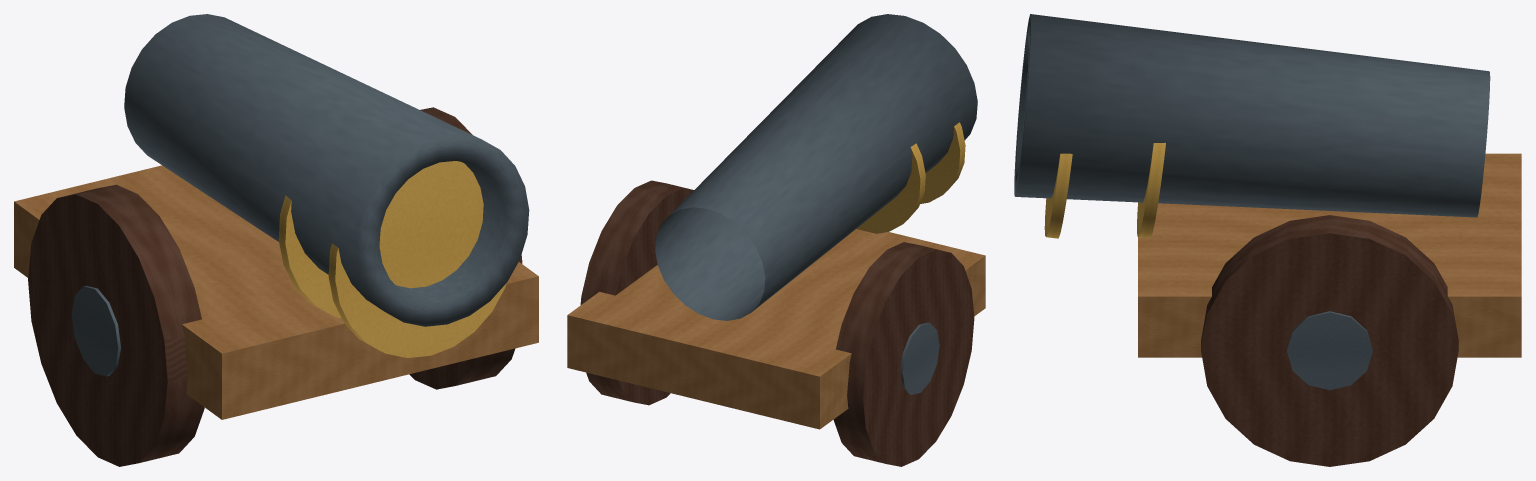
File: cannon.glb
The picture shows the model from 3 angles, left to right: view 1: azimuth 30°, elevation 25°; view 2: azimuth 150°, elevation 25°; view 3: azimuth 270°, elevation 25°; orthographic projection. The views are drawn at different scales.
Parts seen in each view (by area): view 1: cannon; view 2: cannon; view 3: cannon.
Boxes of the visible parts, <box> form: cannon: <box>14,14,538,466</box>; cannon: <box>567,14,985,466</box>; cannon: <box>1014,14,1521,466</box>.
Bounding box in the file's own units: 1.26 × 1.31 × 1.65.
Materials: 4 (4 with a texture image).
